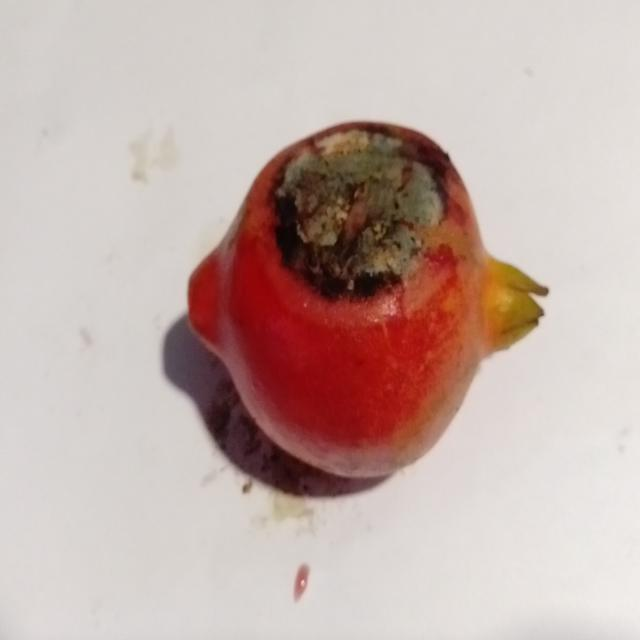Rotten: (185, 113, 552, 484)
